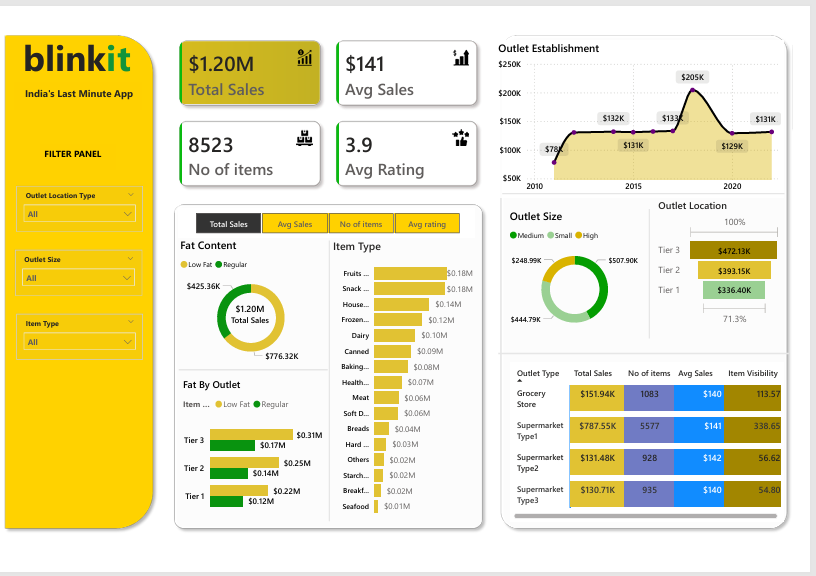

This screenshot's page, from the dashboard's own definition file:
{"tool":"powerbi","page":{"name":"Page 1","canvas":[1200,800],"ordinal":0},"visuals":[{"type":"shape","box":[9.4,11,239.4,757.5],"z":0},{"type":"textbox","box":[557.5,555.9,228.3,61.4],"z":1000},{"type":"textbox","box":[22,11,192.1,159.1],"z":2000},{"type":"textbox","box":[33.1,91.3,192.1,40.9],"z":3000},{"type":"textbox","box":[279,0,239,474],"z":4000},{"type":"cardVisual","fields":{"Data":["#Measures.Total Sales","#Measures.Avg Sales","#Measures.No of items","#Measures.Avg rating"]},"box":[263,11,480.3,253.5],"z":5000},{"type":"shape","box":[263,264.6,480.3,503.9],"z":6000},{"type":"donutChart","title":" Fat Content","fields":{"Y":["#Measures.Total Sales"],"Category":["BlinkIT Grocery Data.Item Fat Content"]},"box":[275.6,324.4,222,192.1],"z":7000},{"type":"slicer","fields":{"Values":["metrics.metrics"]},"box":[278.7,280.3,445.7,44.1],"z":8000},{"type":"cardVisual","fields":{"Data":["#Measures.Total Sales"]},"box":[335.9,400.5,99.3,75.7],"z":9000},{"type":"clusteredBarChart","title":" Fat By Outlet","fields":{"Y":["#Measures.Total Sales"],"Category":["BlinkIT Grocery Data.Outlet Location Type"],"Series":["BlinkIT Grocery Data.Item Fat Content"]},"box":[280.3,533.9,218.9,217.3],"z":10000},{"type":"shape","box":[278.7,507.1,223.6,29.9],"z":11000},{"type":"shape","box":[490.4,328,28.4,421],"z":12000},{"type":"barChart","title":"  Item Type","fields":{"Y":["#Measures.Total Sales"],"Category":["BlinkIT Grocery Data.Item Type"]},"box":[504.6,324.8,220.8,426],"z":13000},{"type":"shape","box":[752.8,11,447.2,757.5],"z":14000},{"type":"lineChart","title":"Outlet Establishment ","fields":{"Y":["#Measures.Total Sales"],"Category":["BlinkIT Grocery Data.Outlet Establishment Year"]},"box":[752.8,28.3,434.6,236.2],"z":15000},{"type":"shape","box":[763.8,250.4,423.6,14.2],"z":16000},{"type":"donutChart","title":" Outlet Size","fields":{"Y":["#Measures.Total Sales"],"Category":["BlinkIT Grocery Data.Outlet Size"]},"box":[770,279.8,205.5,194.5],"z":17000},{"type":"shape","box":[976.1,280.7,17.3,194],"z":18000},{"type":"funnel","title":" Outlet Location","fields":{"Y":["#Measures.Total Sales"],"Category":["BlinkIT Grocery Data.Outlet Location Type"]},"box":[993.4,264.9,194,195.5],"z":19000},{"type":"shape","box":[758.5,477.8,435.2,39.4],"z":20000},{"type":"pivotTable","fields":{"Rows":["BlinkIT Grocery Data.Outlet Type"],"Values":["#Measures.Total Sales","#Measures.No of items","#Measures.Avg Sales","Sum(BlinkIT Grocery Data.Item Visibility)"]},"box":[775.8,510.9,411.6,239.7],"z":21000},{"type":"slicer","fields":{"Values":["BlinkIT Grocery Data.Outlet Location Type"]},"box":[34.6,245.7,190.6,69.3],"z":21001},{"type":"slicer","fields":{"Values":["BlinkIT Grocery Data.Outlet Size"]},"box":[33.1,341.7,190.6,69.3],"z":21002},{"type":"slicer","fields":{"Values":["BlinkIT Grocery Data.Item Type"]},"box":[34.6,437.8,190.6,69.3],"z":21003},{"type":"textbox","box":[72.4,184.3,113.4,37.8],"z":21004}]}

Visuals, with their boxes on the page's 1200x800 design canvas (x1, y1, x2, y2). These are canvas units, not pixel positions in the 816x576 screenshot, which may show the page scaled, cropped or inside an application window:
shape: (9,11,249,768)
textbox: (558,556,786,617)
textbox: (22,11,214,170)
textbox: (33,91,225,132)
textbox: (279,0,518,474)
cardVisual - #Measures.Total Sales x #Measures.Avg Sales: (263,11,743,264)
shape: (263,265,743,768)
" Fat Content" donutChart: (276,324,498,516)
slicer - metrics.metrics: (279,280,724,324)
cardVisual - #Measures.Total Sales: (336,400,435,476)
" Fat By Outlet" clusteredBarChart: (280,534,499,751)
shape: (279,507,502,537)
shape: (490,328,519,749)
"  Item Type" barChart: (505,325,725,751)
shape: (753,11,1200,768)
"Outlet Establishment " lineChart: (753,28,1187,264)
shape: (764,250,1187,265)
" Outlet Size" donutChart: (770,280,976,474)
shape: (976,281,993,475)
" Outlet Location" funnel: (993,265,1187,460)
shape: (758,478,1194,517)
pivotTable - BlinkIT Grocery Data.Outlet Type x #Measures.Total Sales: (776,511,1187,751)
slicer - BlinkIT Grocery Data.Outlet Location Type: (35,246,225,315)
slicer - BlinkIT Grocery Data.Outlet Size: (33,342,224,411)
slicer - BlinkIT Grocery Data.Item Type: (35,438,225,507)
textbox: (72,184,186,222)
